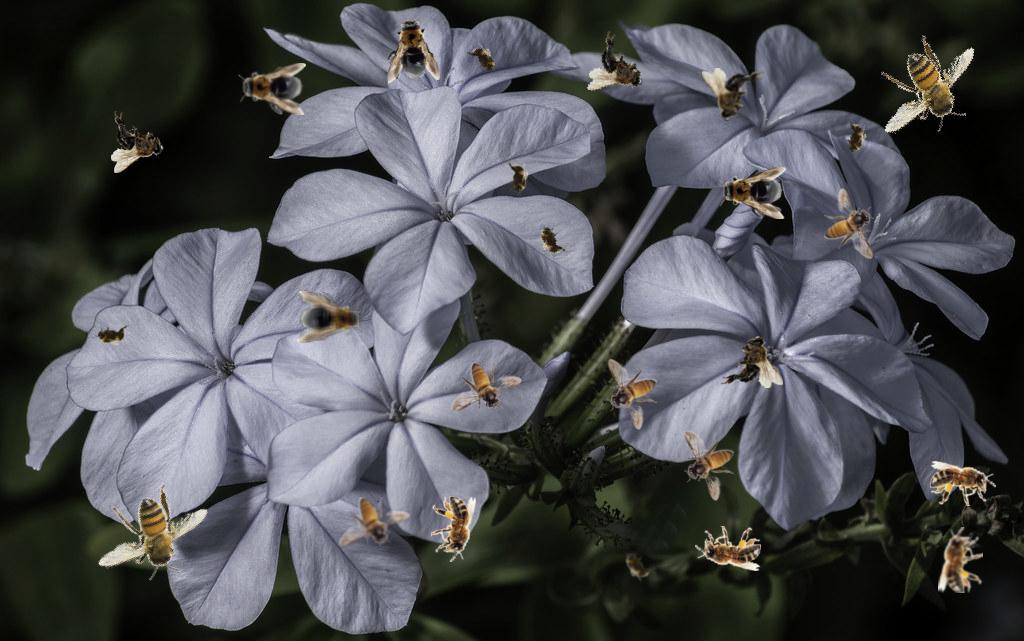Bee: (78, 462, 221, 608), (861, 20, 990, 158), (583, 29, 656, 107), (381, 12, 441, 86), (607, 359, 657, 430), (684, 430, 734, 501), (451, 362, 522, 412), (824, 188, 874, 259), (339, 497, 410, 547), (238, 63, 306, 115), (297, 291, 365, 343), (718, 167, 786, 219), (702, 68, 764, 121), (111, 111, 164, 173), (721, 335, 783, 388), (930, 461, 996, 506), (695, 526, 761, 571), (431, 496, 476, 562), (938, 527, 983, 593), (616, 542, 658, 588), (463, 37, 505, 83), (533, 217, 569, 263), (839, 116, 871, 162), (91, 324, 131, 346), (507, 159, 529, 199)
